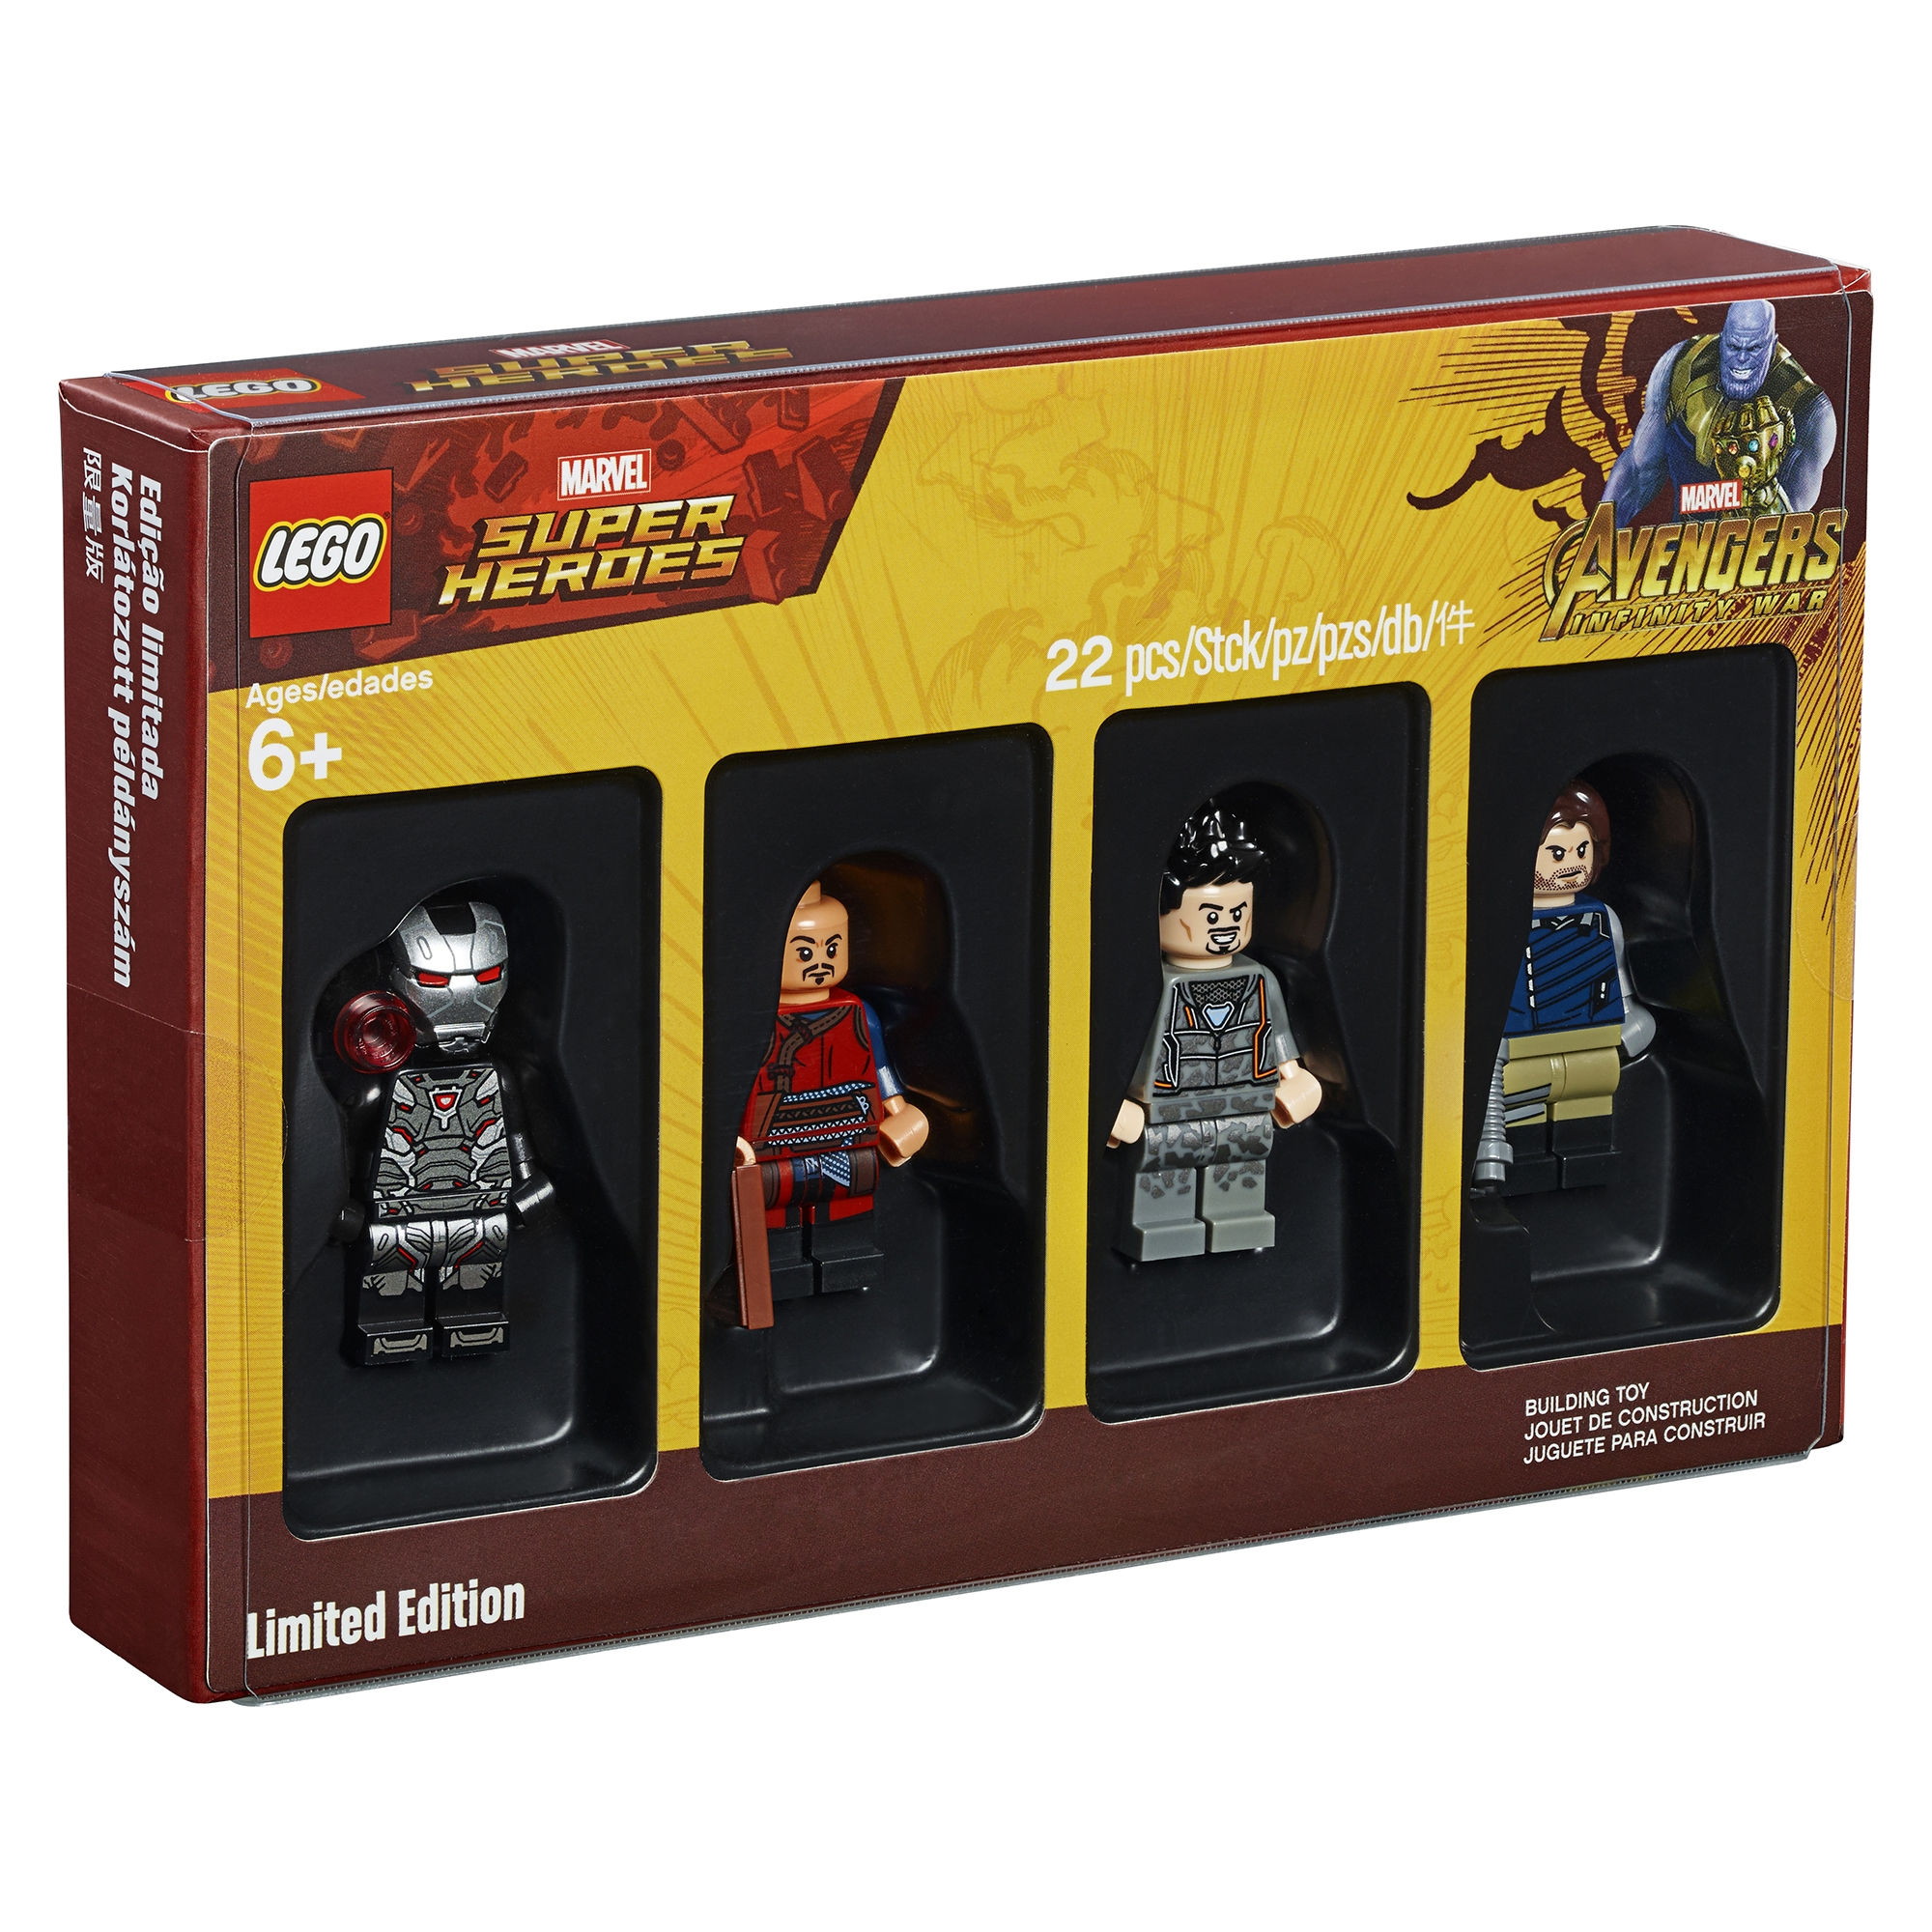lego: (709, 803, 978, 1387), (301, 835, 564, 1392), (1099, 780, 1341, 1292), (1468, 750, 1675, 1265)
